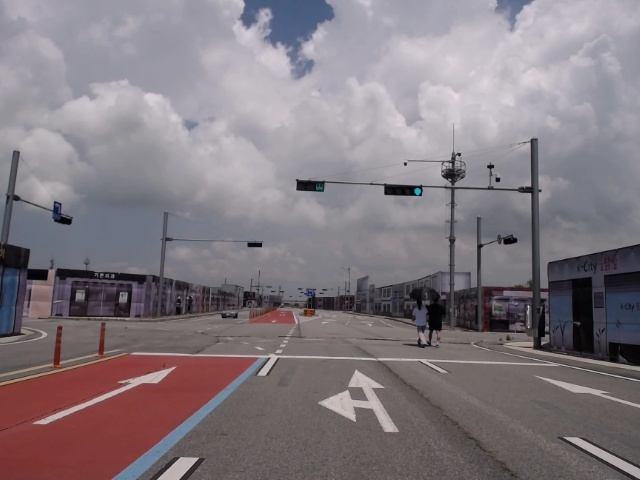straight_green_4: (384, 184, 423, 196)
